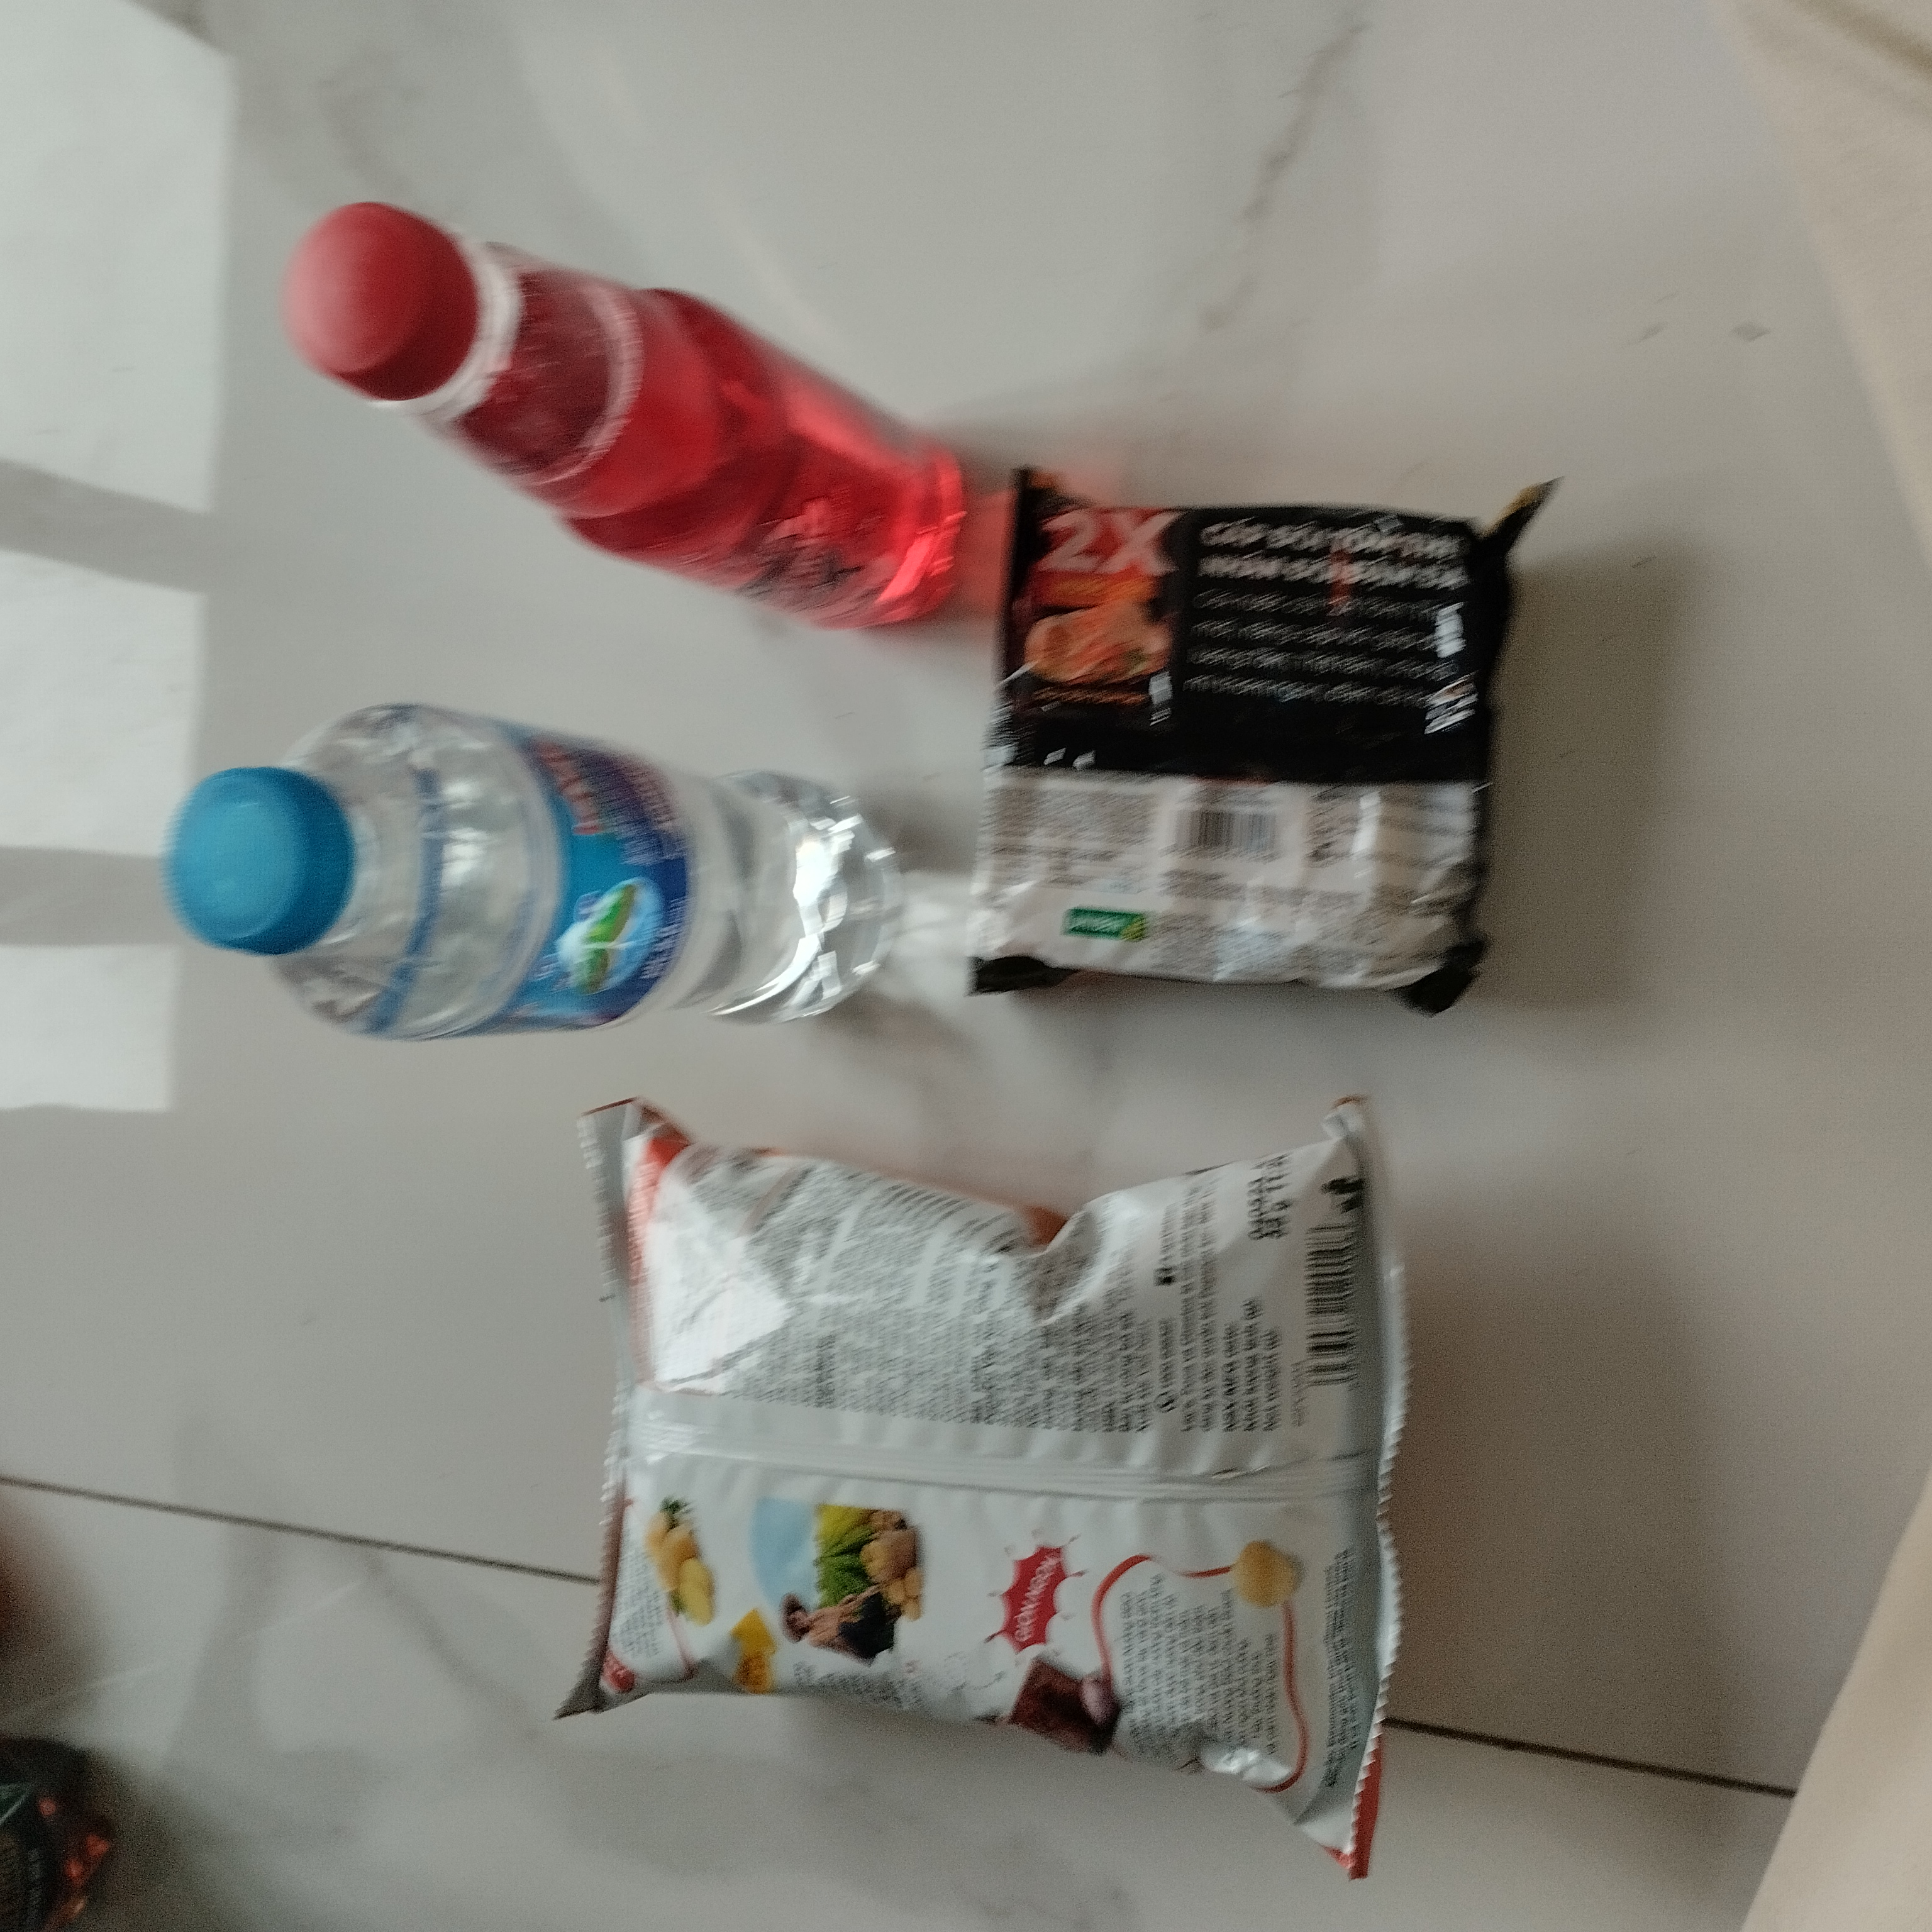3mien: (968, 456, 1573, 1030)
Lavie: (149, 690, 929, 1070)
Lays: (520, 1077, 1468, 1888)
Sting: (276, 196, 978, 655)
